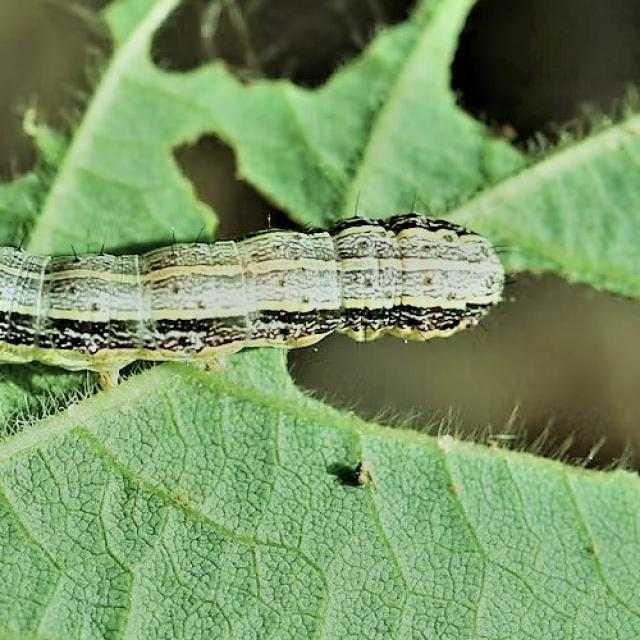armyworm: (0, 206, 509, 384)
